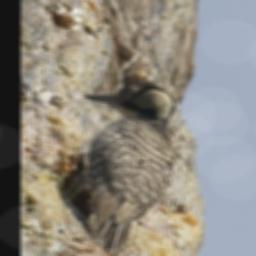Woodpecker: (60, 81, 176, 256)
